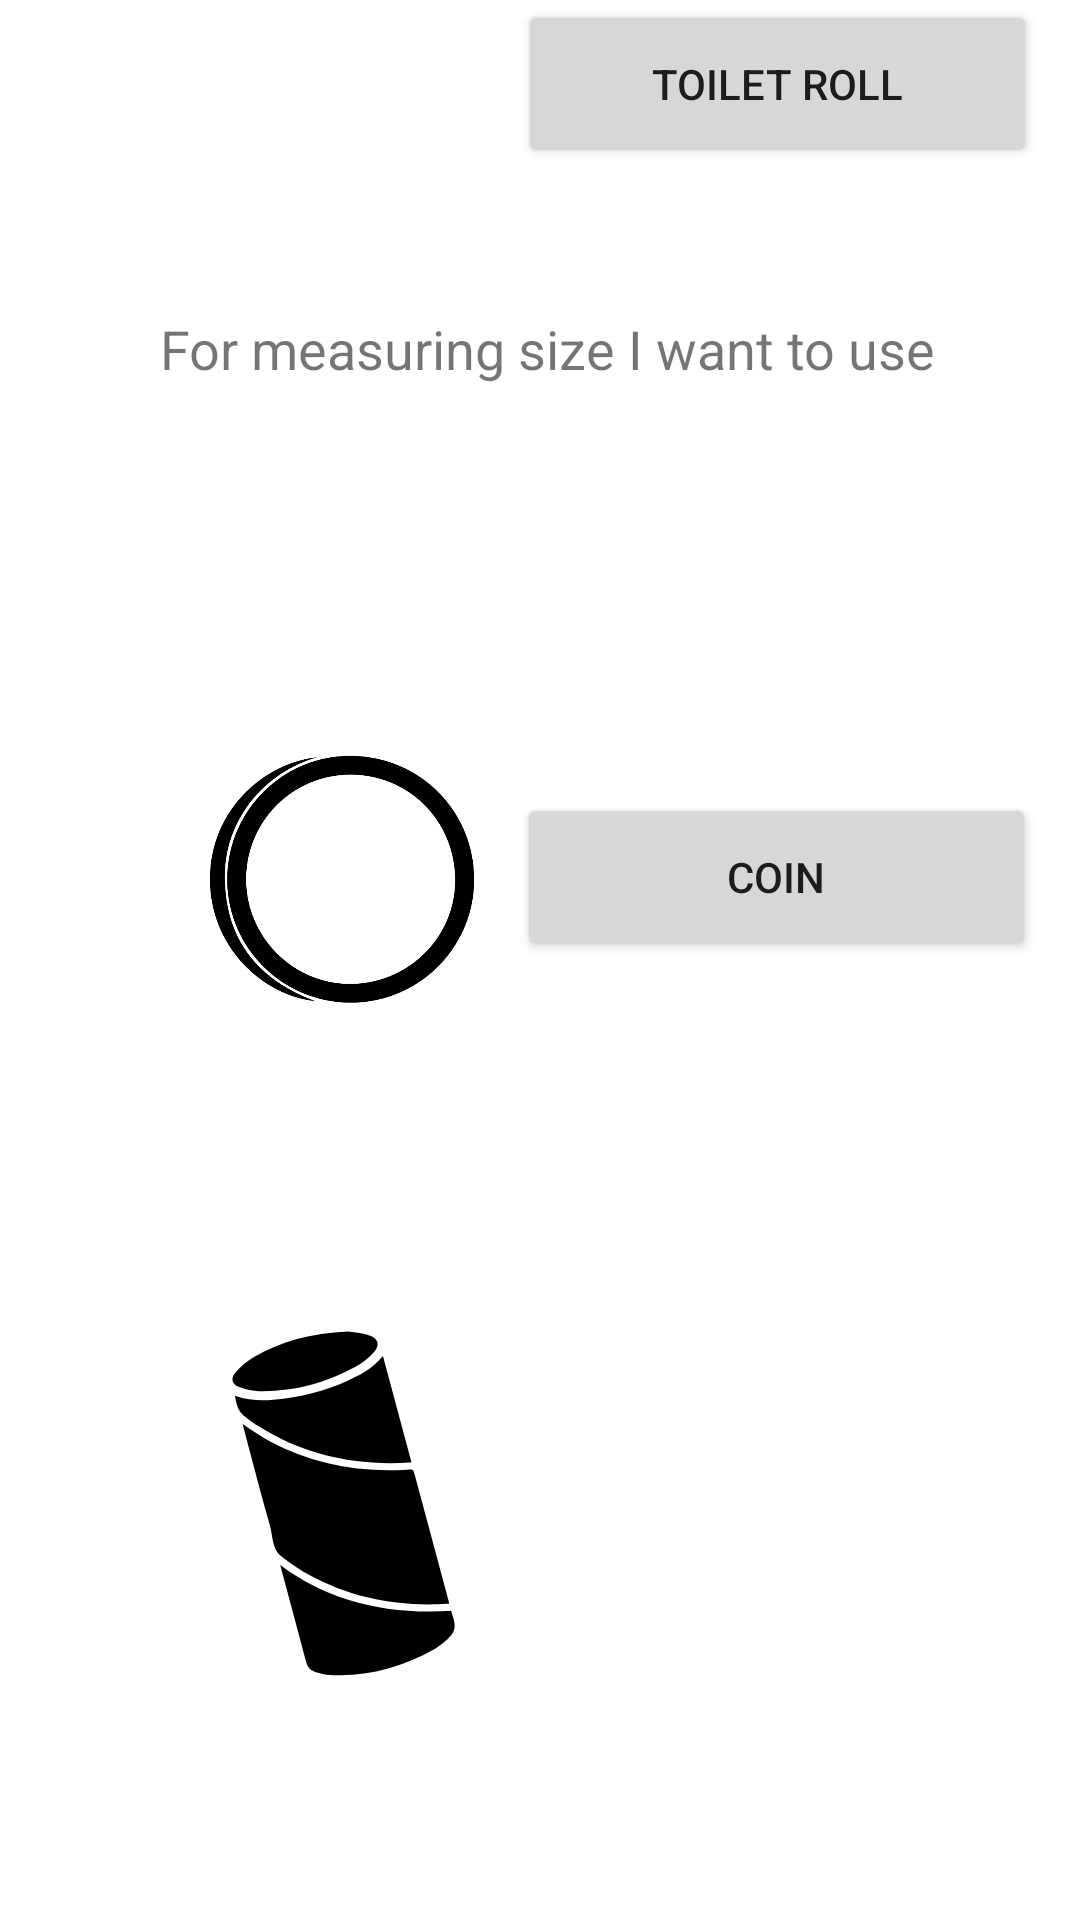

Screen size 1080 × 1920. Icon name, then its center in pixels as point (x, y):
tproll: point (343, 1503)
